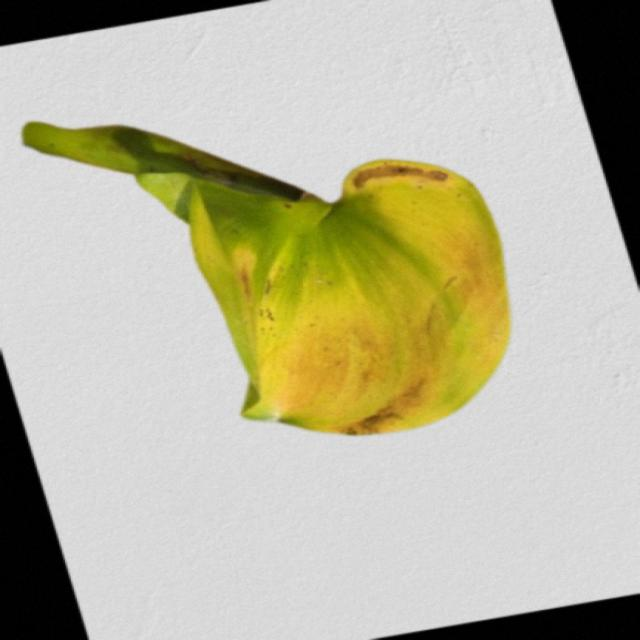daun berpenyakit kuning: (22, 122, 510, 433)
